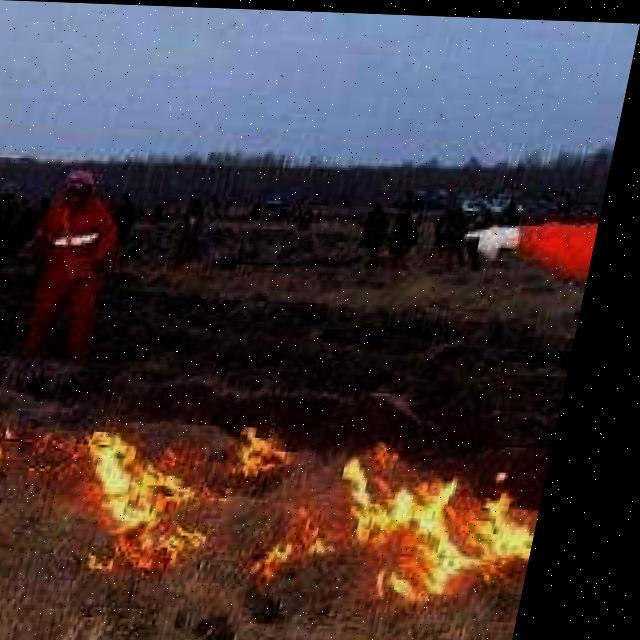Fire: (342, 446, 566, 600), (82, 428, 246, 570), (271, 510, 353, 576), (0, 404, 69, 478), (246, 424, 314, 472)
